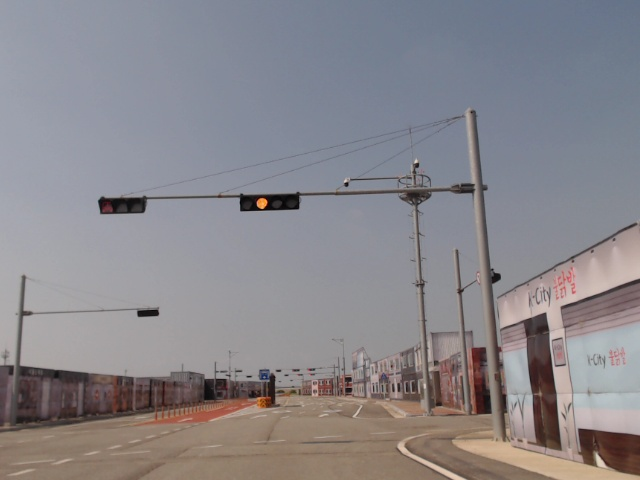orange_4: (239, 194, 299, 211)
